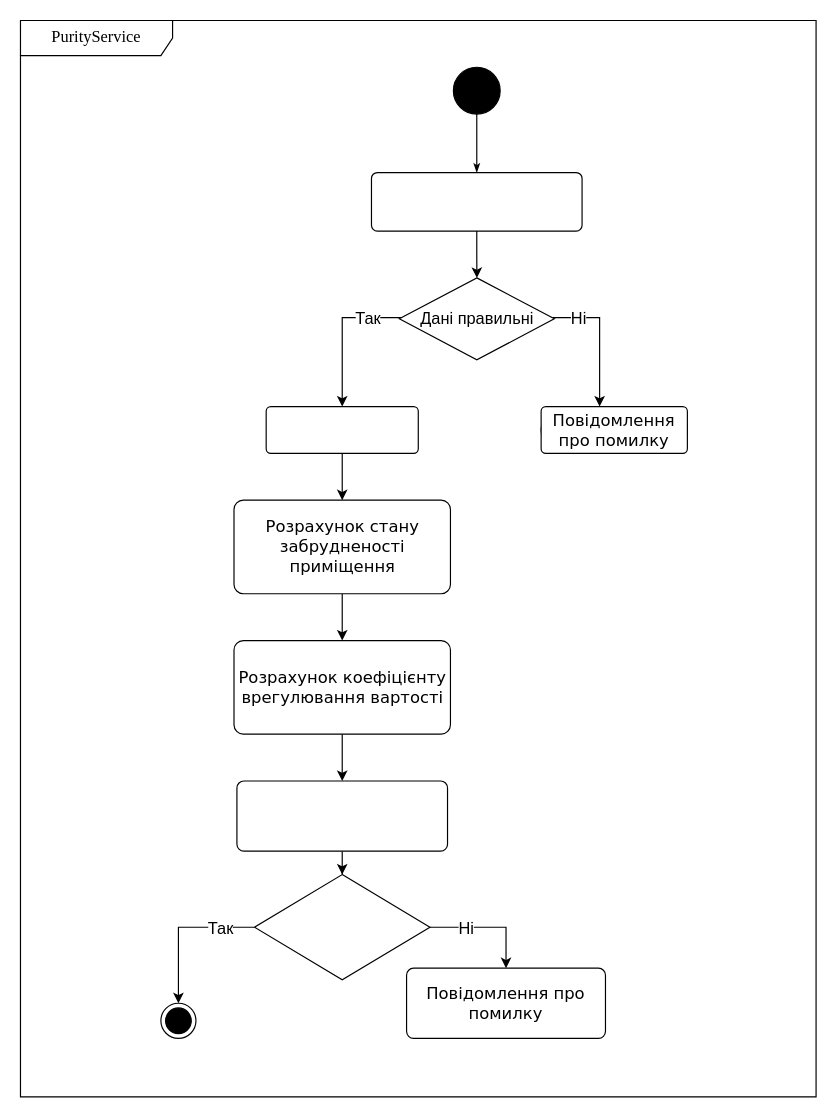
Image size: 837x1117. Some labels were removed from this diagram. The shapes that lost their labels are listed below. From the top down, each one's centre as x and y in pixels, then its label:
At (x=476, y=201): "Отримання даних з датчиків".
At (x=341, y=429): "Обробка даних".
At (x=342, y=815): "Відправка даних та коефіцієнту на сервер".
At (x=341, y=926): "Запит успішний".
